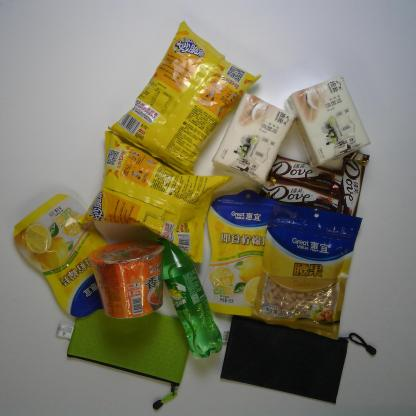Chocolate: (262, 154, 348, 194), (260, 178, 345, 214), (335, 149, 372, 219)
Dried Fruit: (253, 201, 365, 341), (12, 194, 112, 318), (203, 187, 290, 320)
Drink: (151, 236, 226, 361)
Instant Noodles: (85, 237, 170, 323)
Puffed Food: (107, 19, 268, 178), (73, 130, 234, 266)
Stationery: (215, 312, 379, 406), (54, 302, 193, 411)
Tissue: (285, 74, 378, 168), (209, 88, 296, 186)
